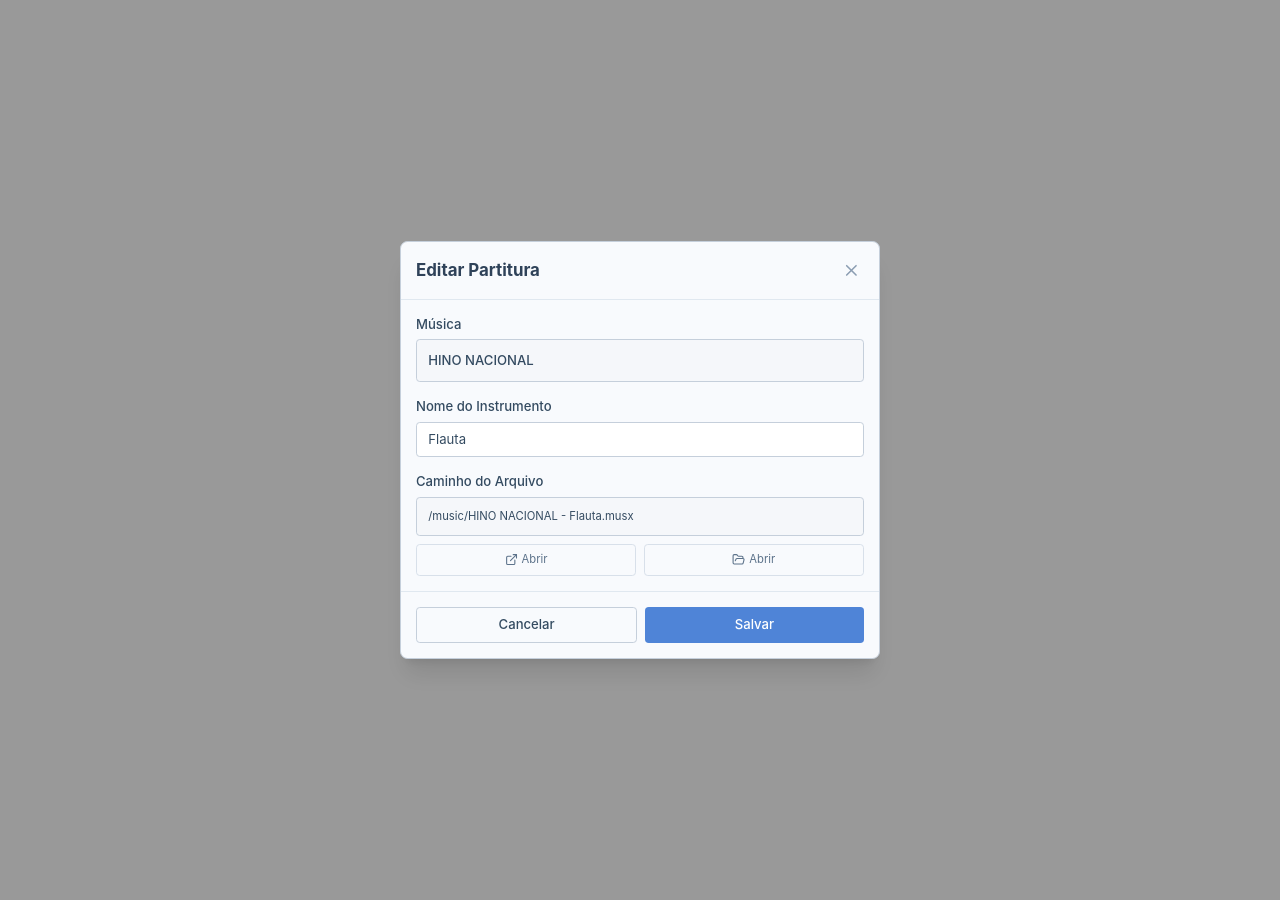
EditScoreModal › should warn when renaming to an existing score name and disable save
The width and height of the screenshot is (1280, 900).
Replace the text in the field showing "Flauta" with "Violino". click: (640, 440)
box: [416,422,864,458]
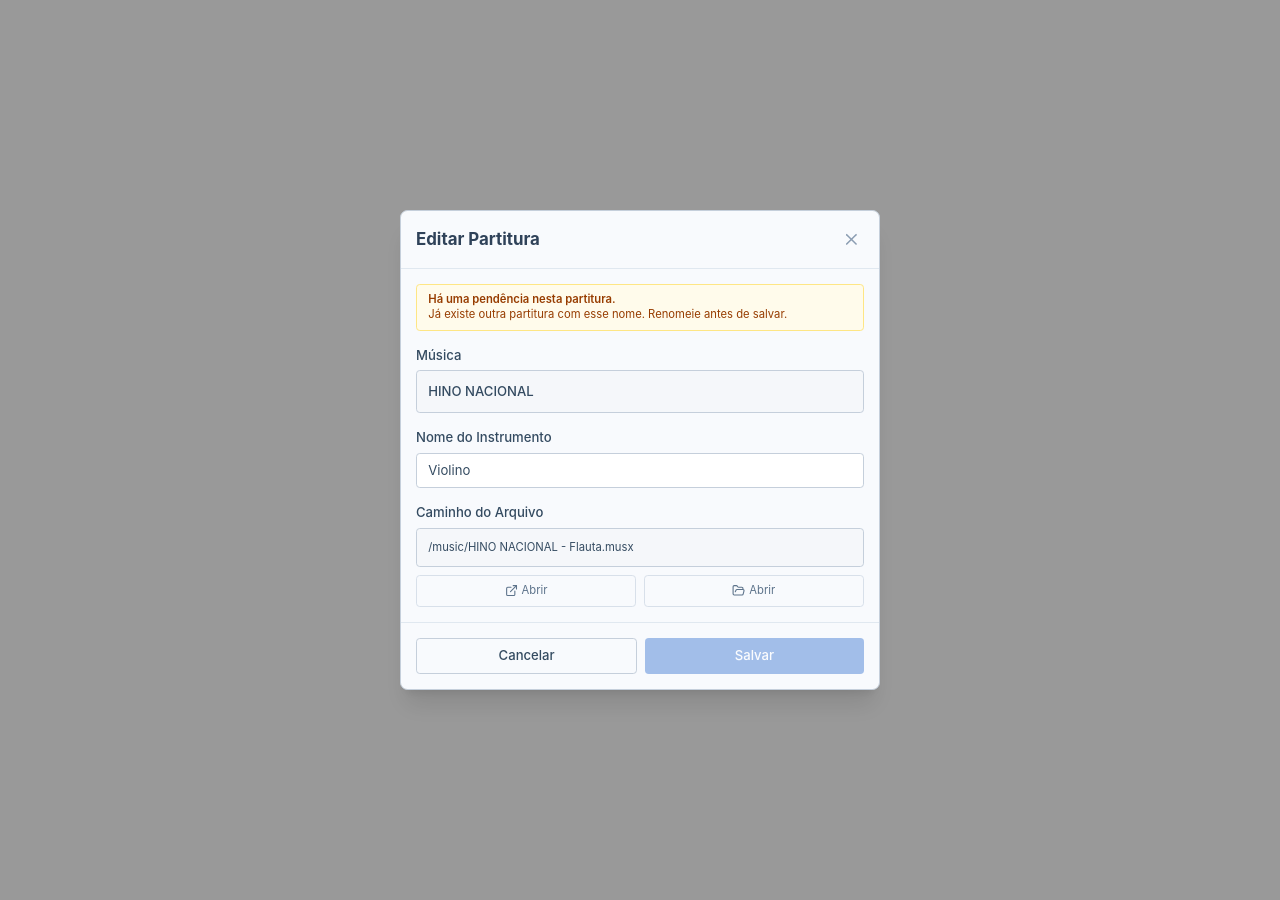
Check: the text "Há uma pendência nesta partitura." is shown, box [428,292,616,306]
Check: the button "Salvar" is disabled, box [645,638,864,674]
